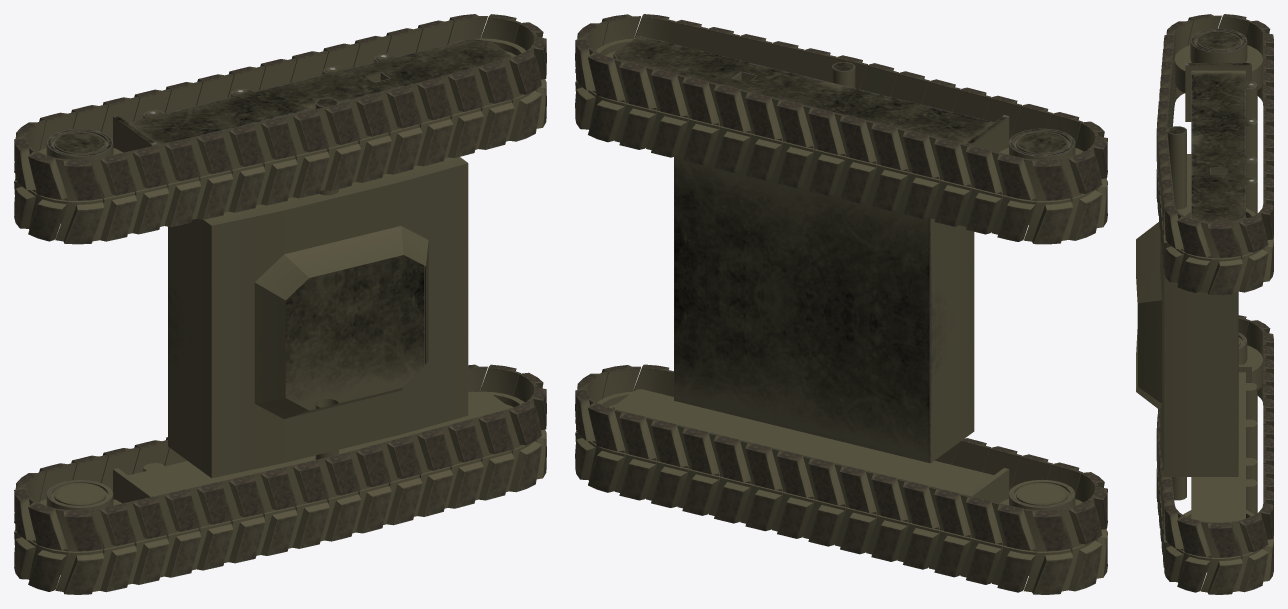
The picture shows the model from 3 angles, left to right: view 1: azimuth 30°, elevation 25°; view 2: azimuth 150°, elevation 25°; view 3: azimuth 270°, elevation 25°; orthographic projection. The views are drawn at different scales.
Parts seen in each view (by area): view 1: Track_mechanism.001; view 2: Track_mechanism.001; view 3: Track_mechanism.001.
Part boxes in pixels (x1=…): Track_mechanism.001: x1=14, y1=14, x2=546, y2=594; Track_mechanism.001: x1=575, y1=14, x2=1107, y2=594; Track_mechanism.001: x1=1136, y1=14, x2=1273, y2=594.
Size of the model in its own units: 1.86 by 1.49 by 0.5042.
Materials: 1 (1 with a texture image).
